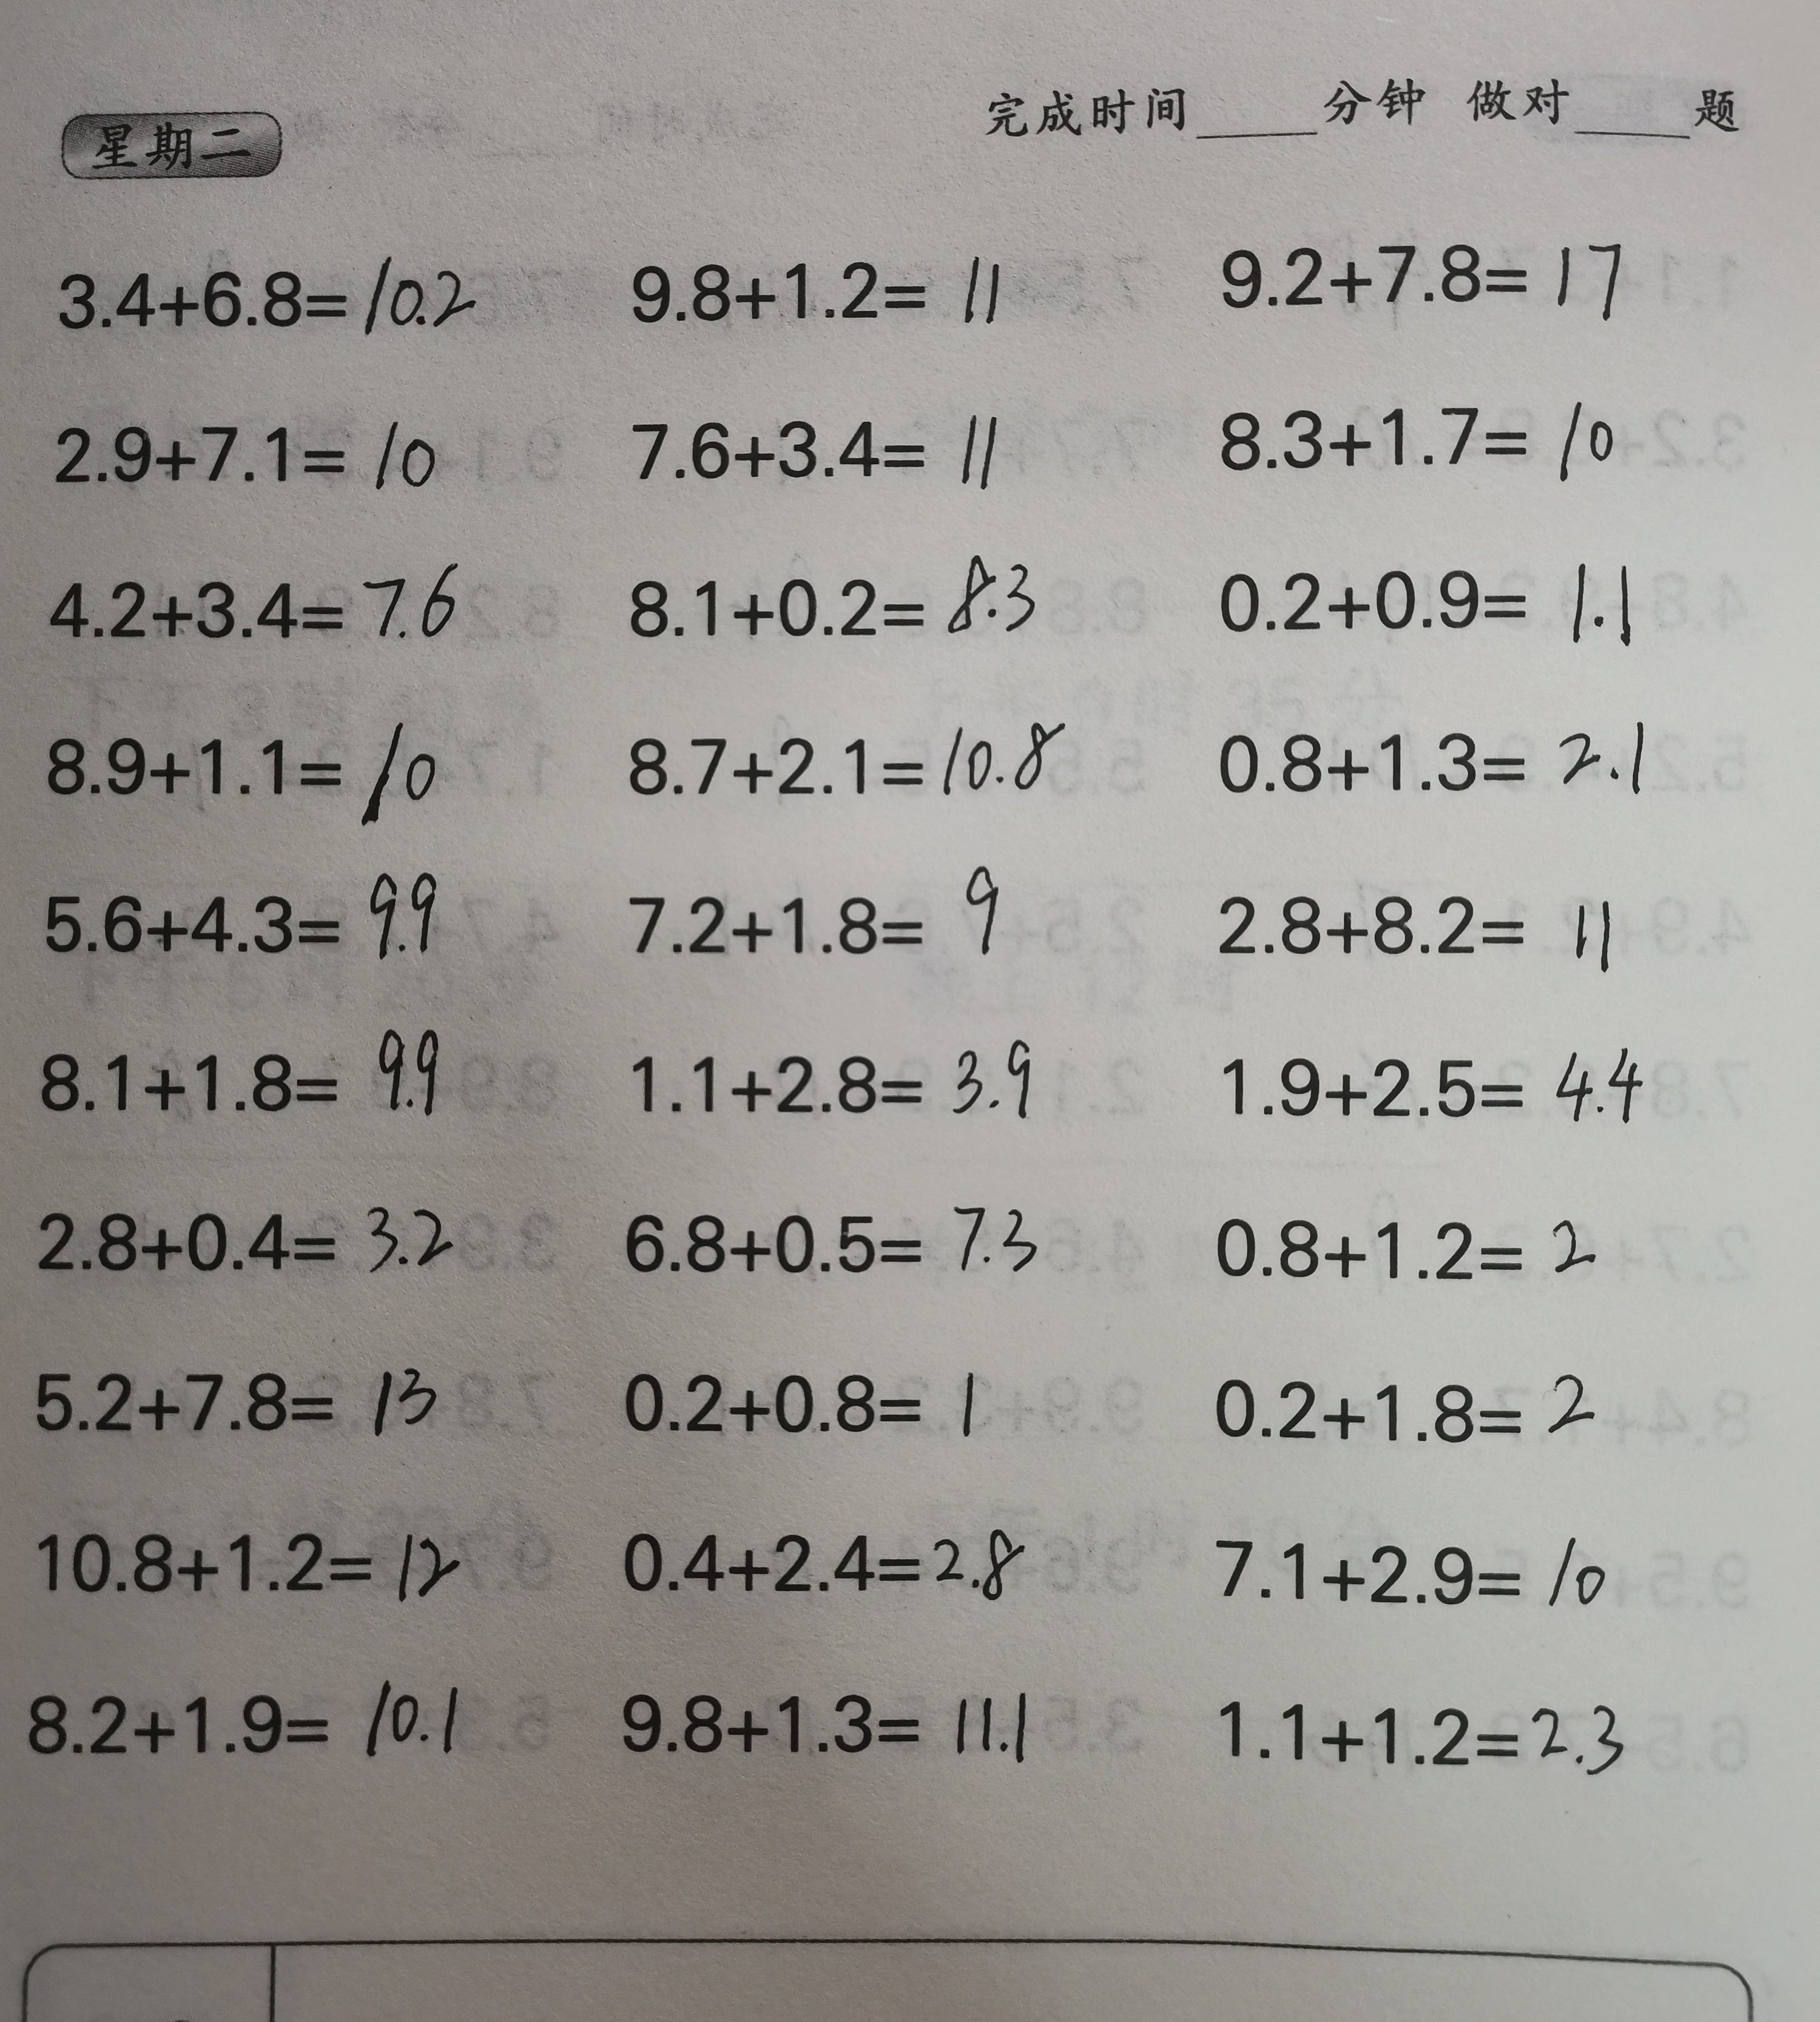equation: (1195, 1672, 1657, 1795), (617, 1015, 1042, 1147), (1203, 211, 1641, 330), (32, 1010, 462, 1131), (16, 1664, 471, 1776), (613, 850, 1014, 977), (1200, 703, 1667, 810), (1186, 1509, 1630, 1621), (604, 1182, 1054, 1293), (1195, 863, 1637, 975), (606, 694, 1061, 803), (610, 1498, 1028, 1616), (28, 710, 457, 822), (40, 241, 488, 348), (1210, 545, 1650, 654), (44, 550, 483, 657), (624, 534, 1049, 645), (1212, 1028, 1665, 1131), (40, 861, 450, 975), (611, 1667, 1054, 1773), (1196, 1195, 1613, 1305), (32, 1507, 471, 1611), (1202, 381, 1632, 487), (617, 221, 1008, 336), (28, 1184, 457, 1288), (23, 1342, 448, 1444), (44, 402, 453, 506), (1200, 1363, 1621, 1456), (611, 1354, 1007, 1453), (620, 395, 1008, 495)
